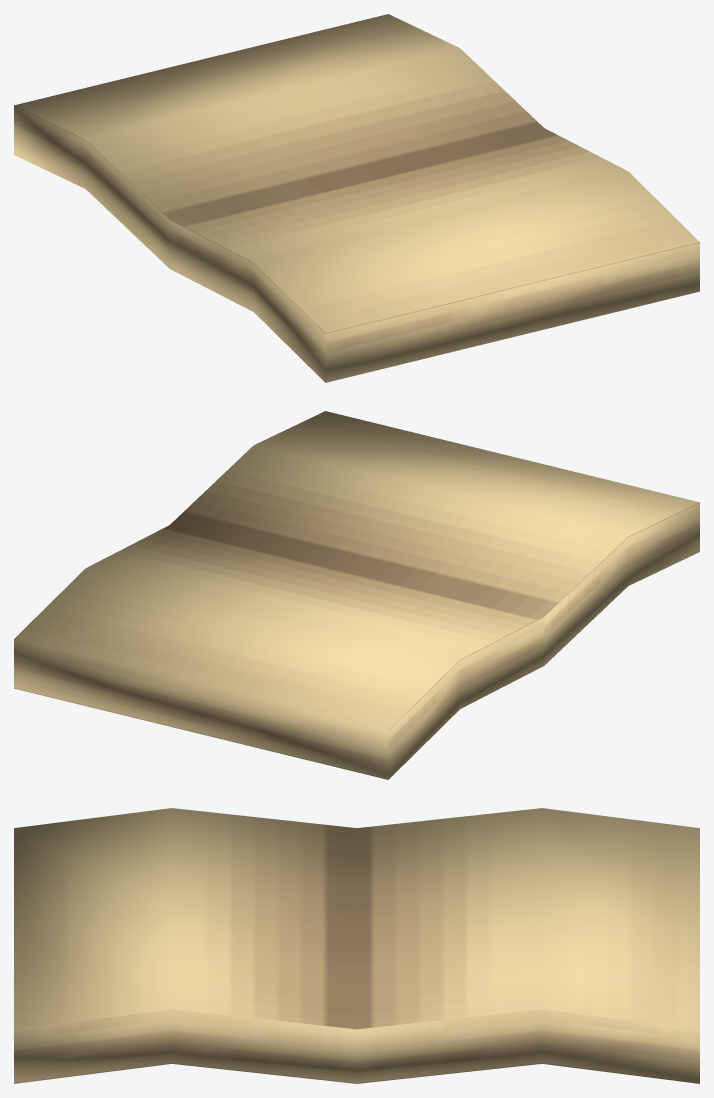
Rendered from Livre1.glb.
3 renders of one model, top to bottom at view 1: azimuth 30°, elevation 25°; view 2: azimuth 150°, elevation 25°; view 3: azimuth 270°, elevation 25°, orthographic. The views are drawn at different scales.
Parts seen in each view (by area): view 1: livre1; view 2: livre1; view 3: livre1.
Boxes of the visible parts, x1,y1,x2,y2 form: livre1: (14, 14, 699, 382); livre1: (14, 411, 699, 779); livre1: (14, 808, 699, 1083).
Bounding box in the file's own units: 0.7446 × 0.1289 × 1.07.
Materials: 1 (1 with a texture image).
